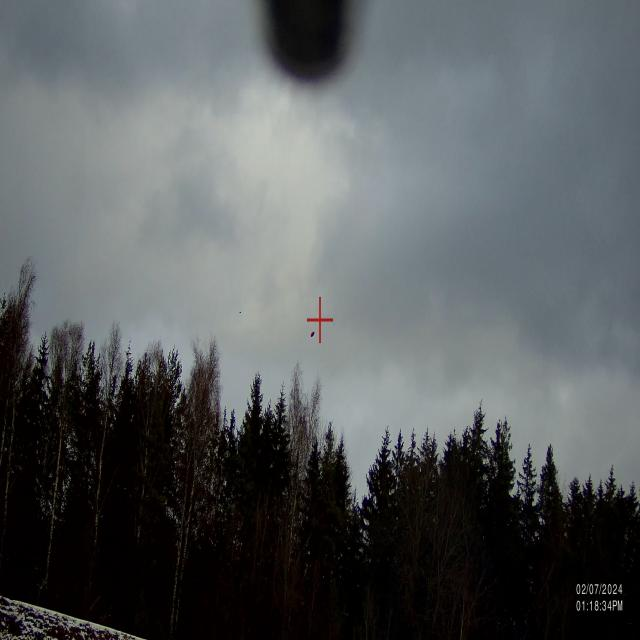entire: (306, 323, 322, 345)
